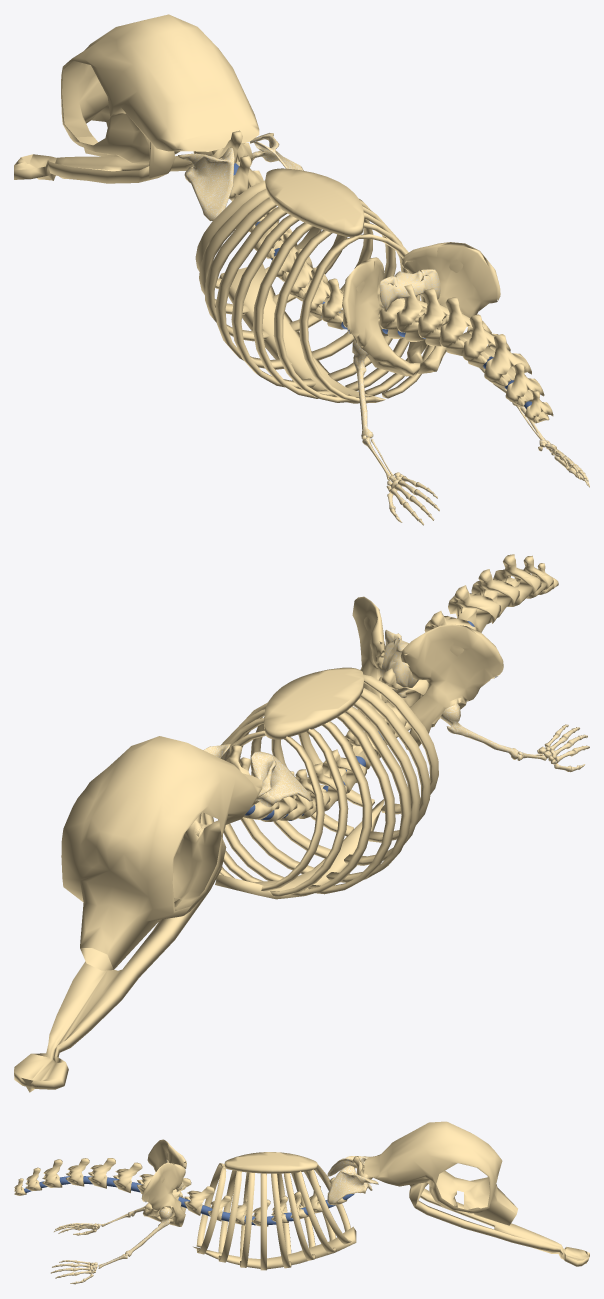
File: alien skull animal.dae
3 views of the same model, one above another, from view 1: azimuth 30°, elevation 25°; view 2: azimuth 150°, elevation 25°; view 3: azimuth 270°, elevation 25° (orthographic). The views are drawn at different scales.
Visible parts, largest first — view 1: group_39, group_14 (×3), c4 (×9), group_3, group_40, group_4, group_13 (×2), group_11 (×2), group_8 (×2), group_12 (×2), group_1, group_7 (+5 smaller); view 2: group_39, group_14 (×3), group_40, group_3, c4 (×3), group_13 (×2), group_7 (×2), group_6 (×2), group_11 (×2), group_4, group_8, group_10 (+4 smaller); view 3: group_39, group_40, group_14 (×2), c4 (×6), group_3, group_4, group_12 (×2), group_8 (×2), group_13 (×2), group_42, group_6 (×2), group_9 (×2) (+5 smaller).
Boxes of the visible parts, left/top/right/bottom form: group_39: left=61, top=14, right=259, bottom=164; group_14 (×3): left=342, top=242, right=500, bottom=376; c4 (×9): left=229, top=155, right=544, bottom=407; group_3: left=265, top=168, right=364, bottom=237; group_40: left=14, top=141, right=212, bottom=183; group_4: left=219, top=263, right=385, bottom=403; group_13 (×2): left=215, top=199, right=396, bottom=369; group_11 (×2): left=252, top=212, right=420, bottom=398; group_8 (×2): left=273, top=222, right=426, bottom=402; group_12 (×2): left=299, top=233, right=434, bottom=402; group_1: left=178, top=147, right=234, bottom=221; group_7: left=231, top=215, right=315, bottom=388; group_39: left=61, top=736, right=262, bottom=970; group_14 (×3): left=352, top=596, right=503, bottom=749; group_40: left=14, top=822, right=226, bottom=1092; group_3: left=264, top=667, right=363, bottom=739; c4 (×3): left=448, top=554, right=541, bottom=632; group_13 (×2): left=218, top=702, right=395, bottom=894; group_7 (×2): left=239, top=706, right=411, bottom=882; group_6 (×2): left=204, top=709, right=372, bottom=895; group_11 (×2): left=250, top=698, right=420, bottom=865; group_4: left=215, top=799, right=384, bottom=899; group_8: left=360, top=688, right=430, bottom=842; group_10: left=270, top=729, right=348, bottom=896; group_39: left=364, top=1121, right=517, bottom=1225; group_40: left=409, top=1182, right=589, bottom=1266; group_14 (×2): left=141, top=1139, right=186, bottom=1226; c4 (×6): left=25, top=1158, right=214, bottom=1215; group_3: left=224, top=1152, right=317, bottom=1173; group_4: left=193, top=1226, right=356, bottom=1269; group_12 (×2): left=196, top=1163, right=226, bottom=1254; group_8 (×2): left=218, top=1170, right=241, bottom=1262; group_13 (×2): left=271, top=1173, right=291, bottom=1268; group_42: left=327, top=1165, right=378, bottom=1204; group_6 (×2): left=284, top=1172, right=315, bottom=1260; group_9 (×2): left=309, top=1164, right=351, bottom=1244.
Size of the model in its own units: 69.63 by 339 by 90.59.
